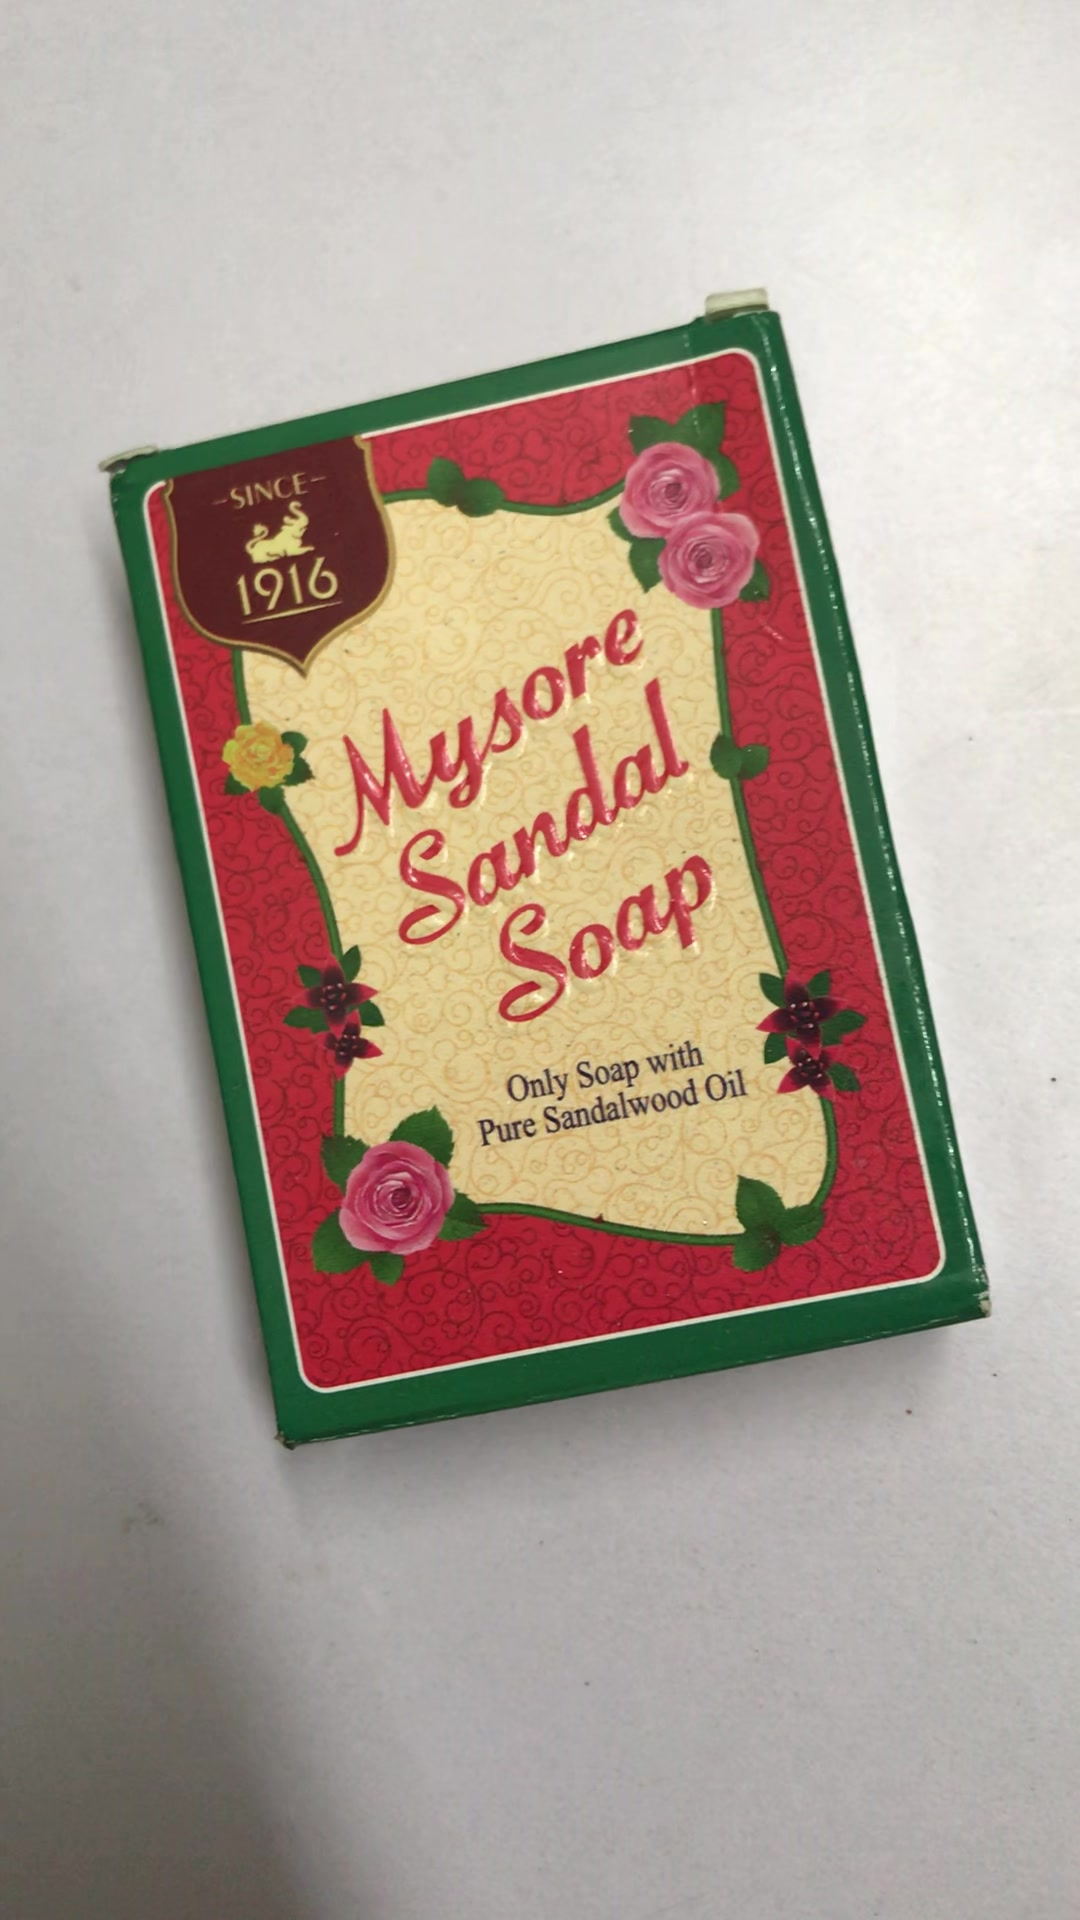mysore sandal soap: (103, 311, 990, 1455)
